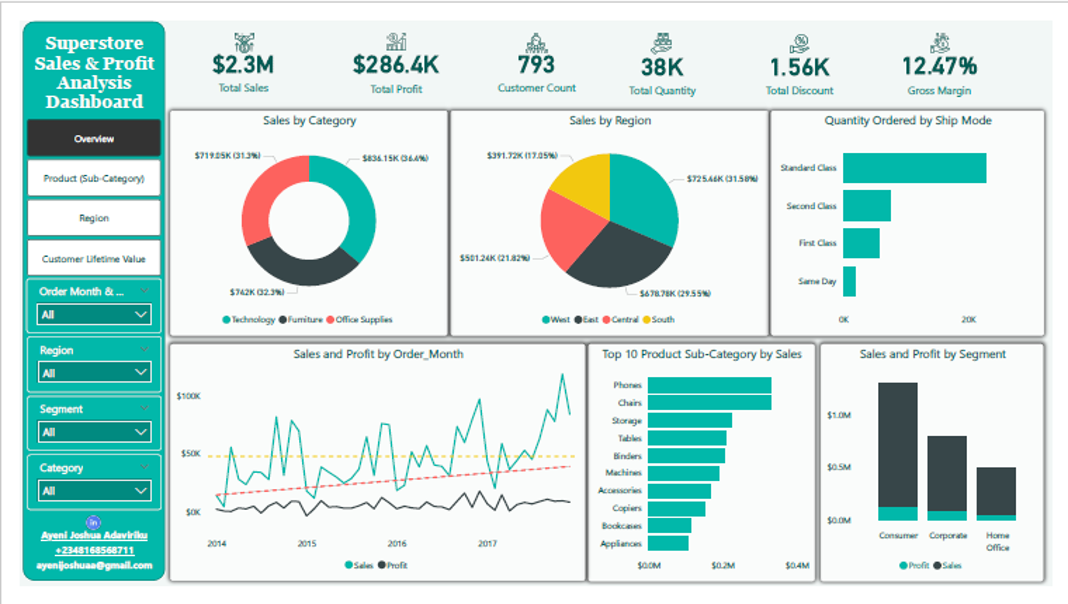

This screenshot's page, from the dashboard's own definition file:
{"tool":"powerbi","page":{"name":"Overview","canvas":[1280,720],"ordinal":0},"visuals":[{"type":"shape","box":[2.8,0,176.2,714.3],"z":0},{"type":"textbox","box":[8.2,11,167,109.9],"z":0,"group":"g1"},{"type":"pieChart","title":"Sales by Region","fields":{"Category":["Sample - Superstore.Region"],"Y":["Sum(Sample - Superstore.Sales)"]},"box":[533.8,113.7,394.8,287.5],"z":1000},{"type":"barChart","title":"Top 10 Product Sub-Category by Sales","fields":{"Category":["Sample - Superstore.Sub-Category"],"Y":["Sum(Sample - Superstore.Sales)"]},"box":[705.3,411.8,281.2,302.9],"z":2000},{"type":"donutChart","fields":{"Category":["Sample - Superstore.Category","Sample - Superstore.Sub-Category"],"Y":["Sum(Sample - Superstore.Sales)"]},"box":[185.9,113.7,343.8,287.5],"z":3000},{"type":"card","fields":{"Values":["Sum(Sample - Superstore.Sales)"]},"box":[186,25.6,181.2,70.8],"z":4000,"group":"g2"},{"type":"lineChart","fields":{"Y":["Sum(Sample - Superstore.Sales)","Sum(Sample - Superstore.Profit)"],"Category":["Sample - Superstore.Order_Month"]},"box":[185.9,411.8,514.7,302.4],"z":4000},{"type":"card","fields":{"Values":["Sum(Sample - Superstore.Profit)"]},"box":[370,25.6,192.7,71.9],"z":5000,"group":"g3"},{"type":"slicer","fields":{"Values":["Sample - Superstore.Order_Month"]},"box":[7.2,328,168.1,70.3],"z":5000},{"type":"card","fields":{"Values":["Sum(Sample - Superstore.Discount)"]},"box":[877,26.7,181,75.3],"z":6000,"group":"g6"},{"type":"slicer","fields":{"Values":["Sample - Superstore.Region"]},"box":[8.3,402.1,167,71.4],"z":6000},{"type":"card","fields":{"Values":["Sum(Sample - Superstore.Quantity)"]},"box":[720,26,154,76],"z":7000,"group":"g5"},{"type":"slicer","fields":{"Values":["Sample - Superstore.Segment"]},"box":[8.3,478,167,70.3],"z":7000},{"type":"slicer","fields":{"Values":["Sample - Superstore.Category"]},"box":[8.3,552.7,167,71.4],"z":8000},{"type":"columnChart","title":"Sales and Profit by Segment","fields":{"Category":["Sample - Superstore.Segment"],"Y":["Sum(Sample - Superstore.Profit)","Sum(Sample - Superstore.Sales)"]},"box":[993.5,411.8,276.5,302.9],"z":9000},{"type":"card","fields":{"Values":["Sample - Superstore.Customer Count"]},"box":[566,25.6,150,70.8],"z":10000,"group":"g4"},{"type":"clusteredBarChart","fields":{"Category":["Sample - Superstore.Ship Mode"],"Y":["Sum(Sample - Superstore.Quantity)"]},"box":[932.3,113.6,338.6,287.7],"z":10000},{"type":"group","id":"g1","title":"Group 1","box":[8.2,11,167,109.9],"z":11000},{"type":"card","fields":{"Values":["Sample - Superstore.Gross Margin"]},"box":[1061,24.2,160,77.8],"z":11000,"group":"g7"},{"type":"group","id":"g2","title":"Group 2","box":[186,11,181.2,85.4],"z":12000},{"type":"group","id":"g3","title":"Group 3","box":[370,11,192.7,86.5],"z":13000},{"type":"group","id":"g4","title":"Group 4","box":[566,11,150,85.4],"z":14000},{"type":"group","id":"g5","title":"Group 5","box":[720,11,154,91],"z":15000},{"type":"group","id":"g6","title":"Group 6","box":[877,12,181,90],"z":16000},{"type":"image","box":[251.6,11,52.1,33.3],"z":16001,"group":"g2"},{"type":"image","box":[932,12,71,33],"z":16002,"group":"g6"},{"type":"image","box":[766.9,11,56.2,35.4],"z":16003,"group":"g5"},{"type":"image","box":[598.3,11,84.4,33.3],"z":16004,"group":"g4"},{"type":"image","box":[1102,11,79,34],"z":16005,"group":"g7"},{"type":"image","box":[427.3,11,79.2,31.2],"z":16006,"group":"g3"},{"type":"group","id":"g7","title":"Group 7","box":[1061,11,160,91],"z":17000},{"type":"pageNavigator","box":[8.2,124.6,166.4,200],"z":20000},{"type":"image","box":[67.4,619.4,45.4,42.7],"z":21000},{"type":"textbox","box":[8.3,641.4,166.5,72.9],"z":22000}]}

Visuals, with their boxes in screenshot pixels (x1, y1, x2, y2), scaled from the page's 1280x720 canvas onto the 1068x604 screenshot:
shape: x1=2 y1=0 x2=149 y2=599
textbox: x1=7 y1=9 x2=146 y2=101
"Sales by Region" pieChart: x1=445 y1=95 x2=775 y2=337
"Top 10 Product Sub-Category by Sales" barChart: x1=588 y1=345 x2=823 y2=600
donutChart - Sample - Superstore.Category x Sample - Superstore.Sub-Category: x1=155 y1=95 x2=442 y2=337
card - Sum(Sample - Superstore.Sales): x1=155 y1=21 x2=306 y2=81
lineChart - Sum(Sample - Superstore.Sales) x Sum(Sample - Superstore.Profit): x1=155 y1=345 x2=585 y2=599
card - Sum(Sample - Superstore.Profit): x1=309 y1=21 x2=470 y2=82
slicer - Sample - Superstore.Order_Month: x1=6 y1=275 x2=146 y2=334
card - Sum(Sample - Superstore.Discount): x1=732 y1=22 x2=883 y2=86
slicer - Sample - Superstore.Region: x1=7 y1=337 x2=146 y2=397
card - Sum(Sample - Superstore.Quantity): x1=601 y1=22 x2=729 y2=86
slicer - Sample - Superstore.Segment: x1=7 y1=401 x2=146 y2=460
slicer - Sample - Superstore.Category: x1=7 y1=464 x2=146 y2=524
"Sales and Profit by Segment" columnChart: x1=829 y1=345 x2=1060 y2=600
card - Sample - Superstore.Customer Count: x1=472 y1=21 x2=597 y2=81
clusteredBarChart - Sample - Superstore.Ship Mode x Sum(Sample - Superstore.Quantity): x1=778 y1=95 x2=1060 y2=337
"Group 1" group: x1=7 y1=9 x2=146 y2=101
card - Sample - Superstore.Gross Margin: x1=885 y1=20 x2=1019 y2=86
"Group 2" group: x1=155 y1=9 x2=306 y2=81
"Group 3" group: x1=309 y1=9 x2=470 y2=82
"Group 4" group: x1=472 y1=9 x2=597 y2=81
"Group 5" group: x1=601 y1=9 x2=729 y2=86
"Group 6" group: x1=732 y1=10 x2=883 y2=86
image: x1=210 y1=9 x2=253 y2=37
image: x1=778 y1=10 x2=837 y2=38
image: x1=640 y1=9 x2=687 y2=39
image: x1=499 y1=9 x2=570 y2=37
image: x1=919 y1=9 x2=985 y2=38
image: x1=357 y1=9 x2=423 y2=35
"Group 7" group: x1=885 y1=9 x2=1019 y2=86
pageNavigator: x1=7 y1=105 x2=146 y2=272
image: x1=56 y1=520 x2=94 y2=555
textbox: x1=7 y1=538 x2=146 y2=599
